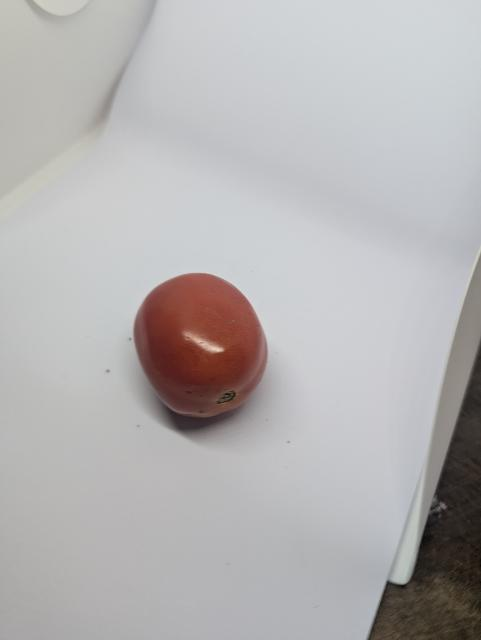red: (130, 271, 272, 424)
